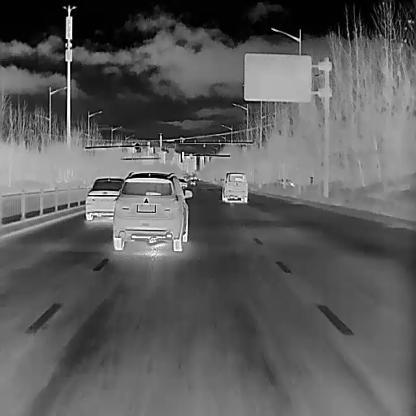car: (112, 170, 192, 251), (85, 176, 124, 220), (219, 171, 247, 202), (177, 177, 187, 187), (189, 178, 195, 184)
